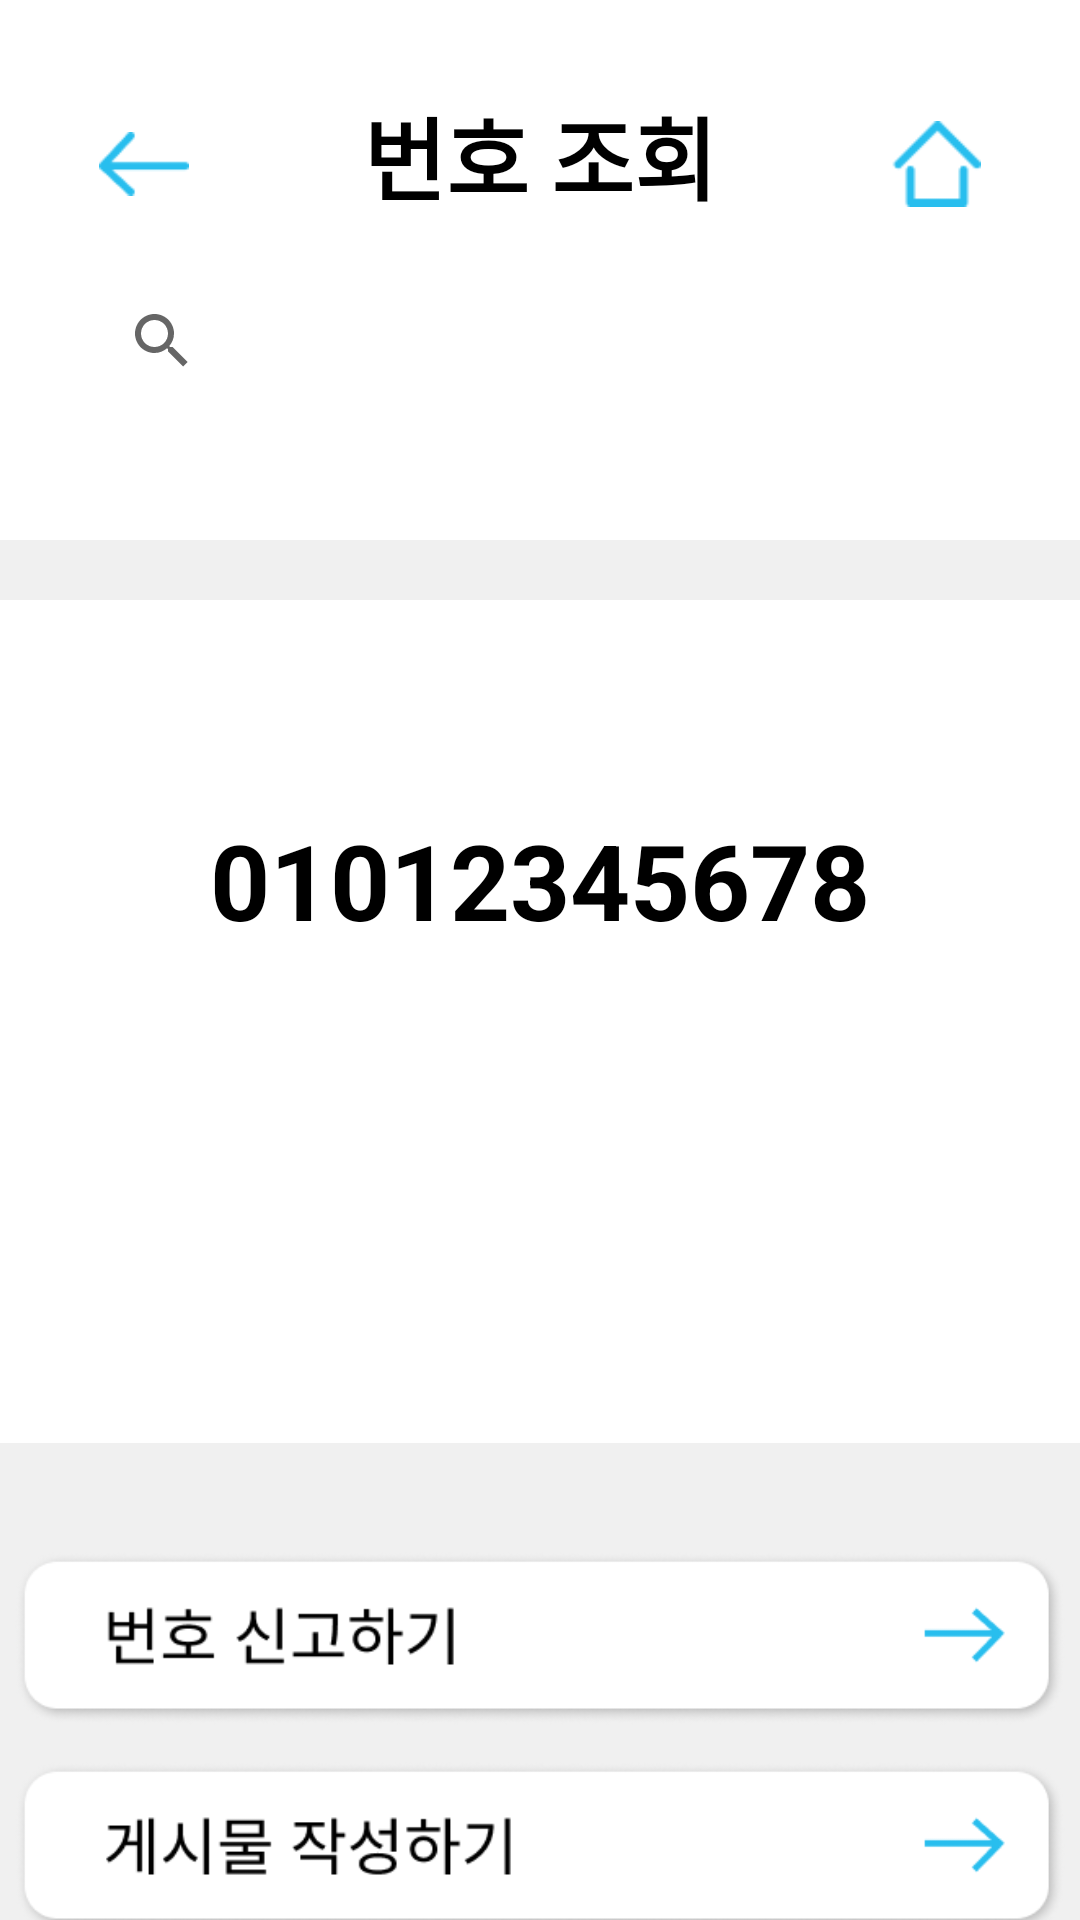

Icon click points for this 1080px x 1920px phone screenshot, format (x,y):
backbtn: (144,164)
homebtn: (937,164)
